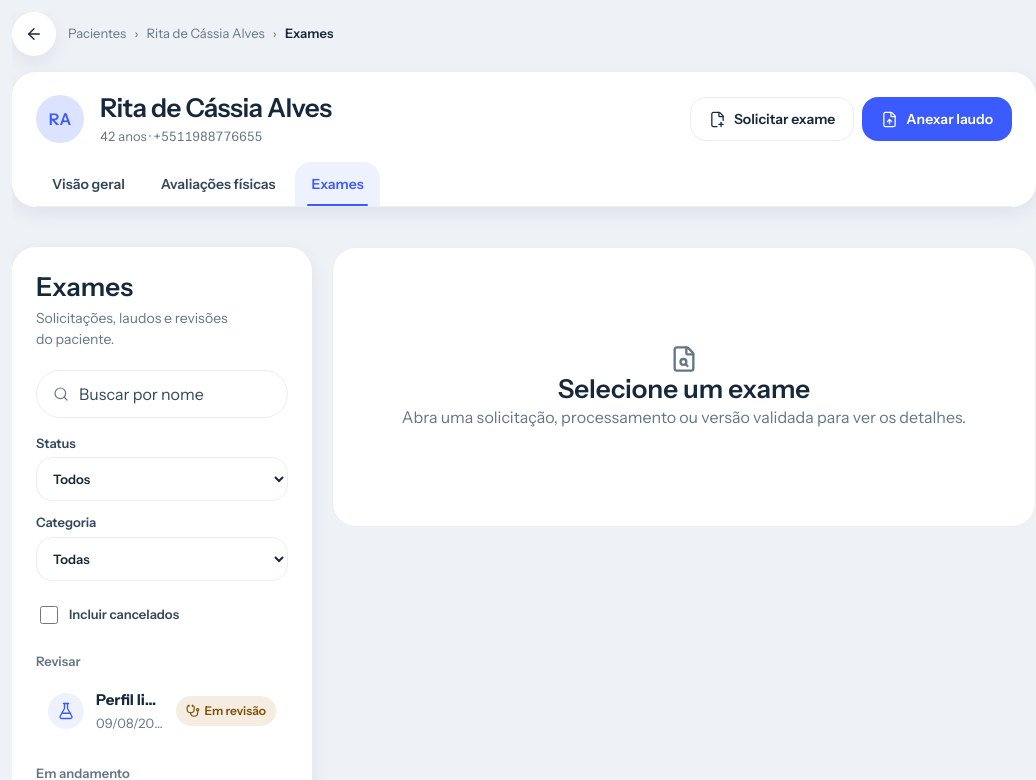
nenhum resultado mantém filtros visíveis e limpar filtros reseta todos
The width and height of the screenshot is (1036, 780).
Expected: the text "Perfil lipídico" is shown, [96,689,164,712]
Type "sem correspondência" into the search field named "Buscar exames" at (174, 394), box [77,372,271,416]
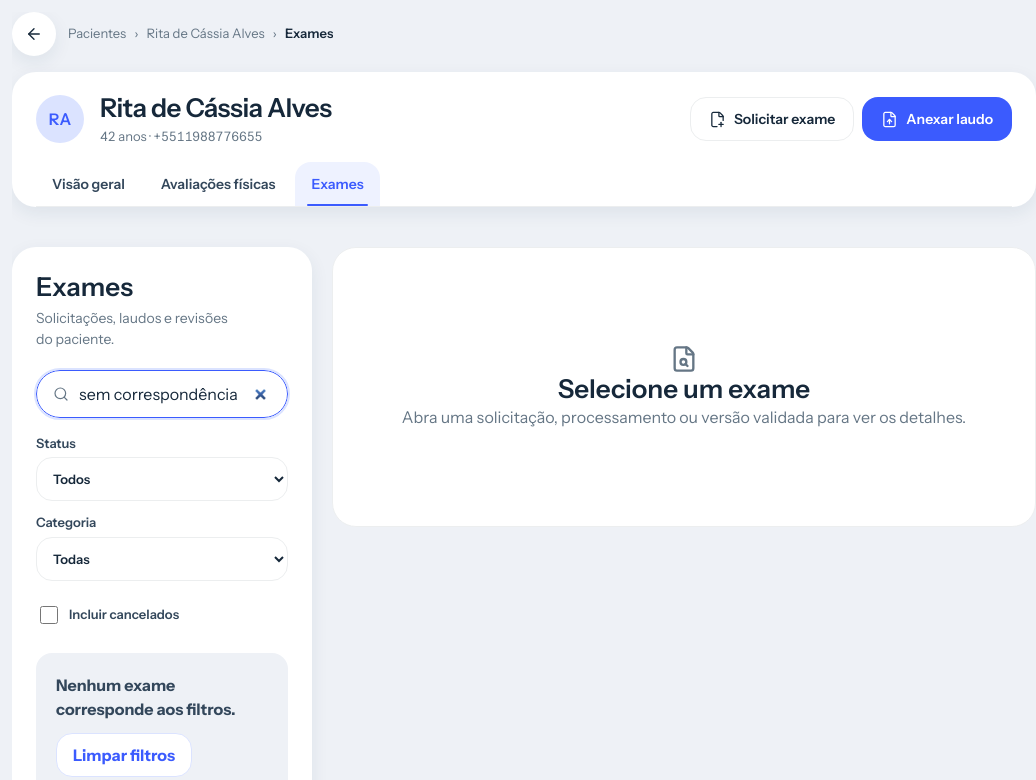
Select "Falhou" in the dropdown labelled "Status" at (162, 479), box [36,457,288,501]
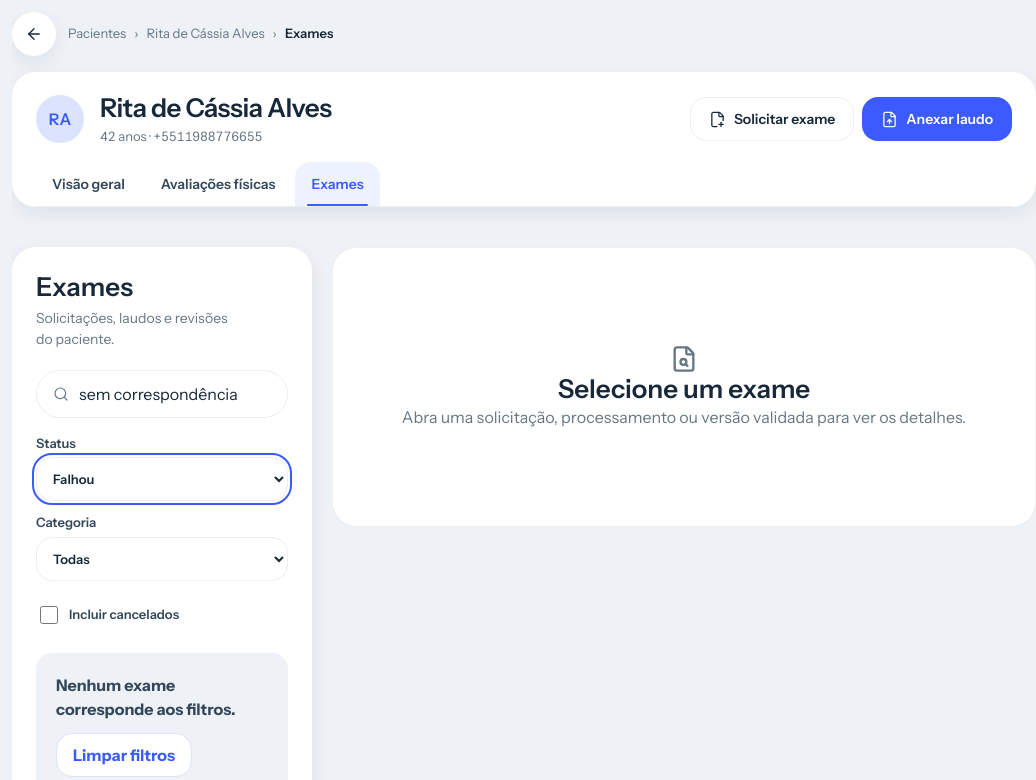
Select "Imagem" in the dropdown labelled "Categoria" at (162, 558), box [36,536,288,580]
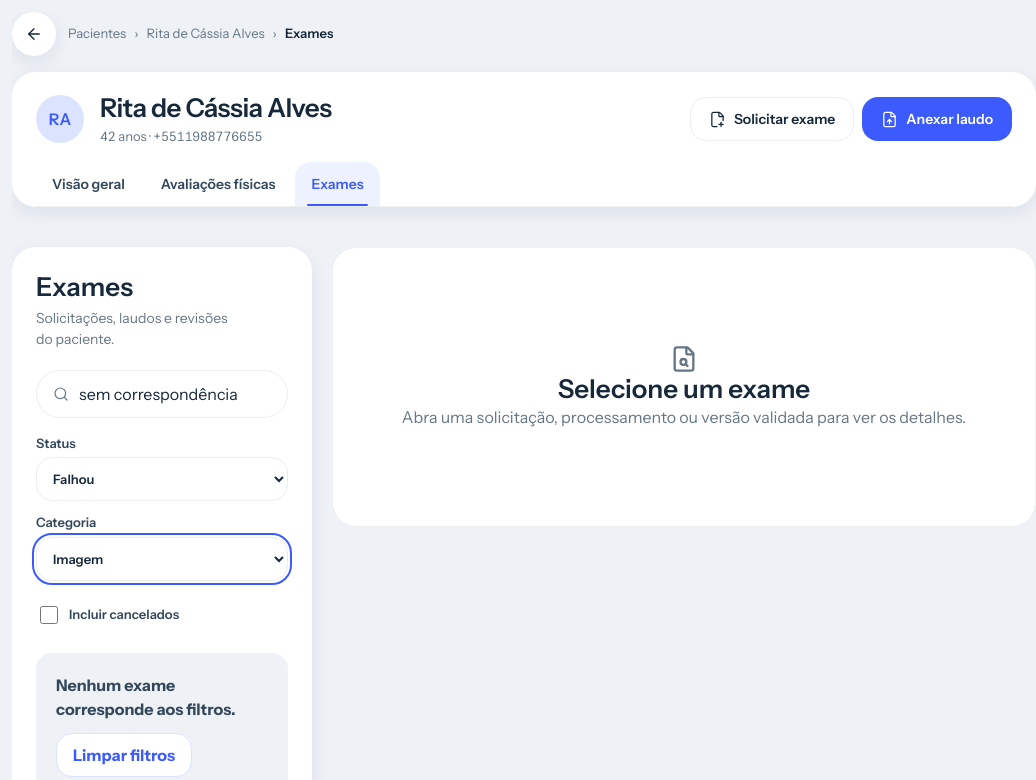
Click the checkbox labelled "Incluir cancelados" at (49, 614), box [40,606,58,624]
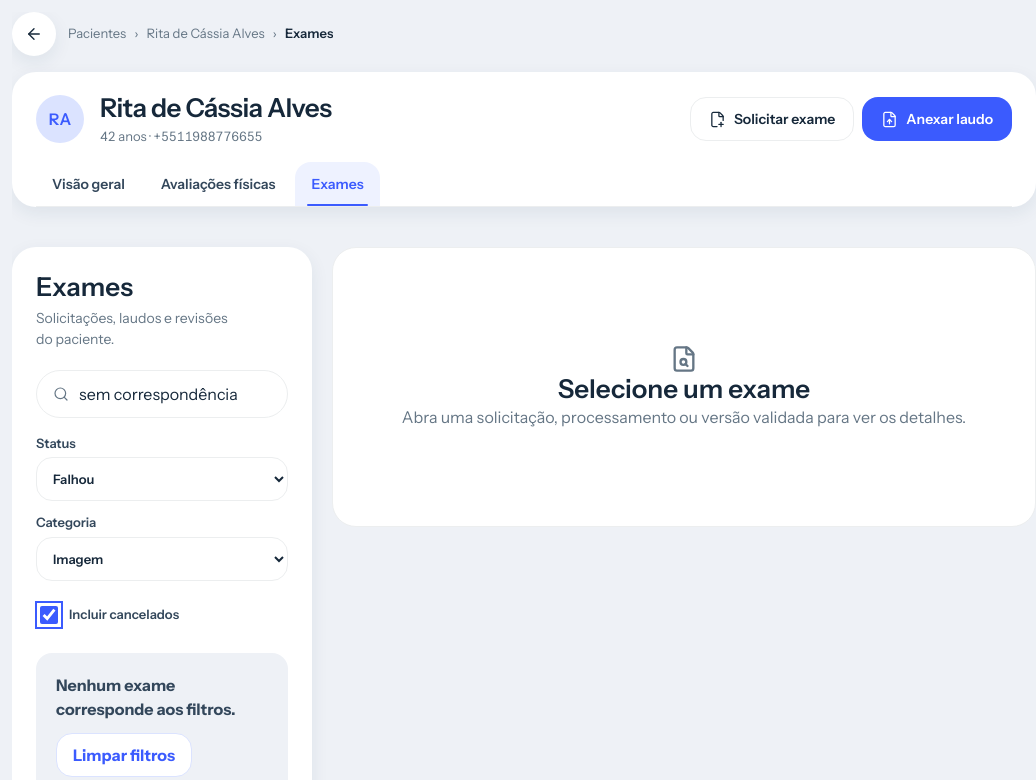
Expected: the checkbox labelled "Incluir cancelados" is checked, [40,606,58,624]
Expected: the text "Nenhum exame corresponde aos filtros." is shown, [56,674,236,718]
Click the button "Limpar filtros" at (124, 754), box [56,732,192,776]
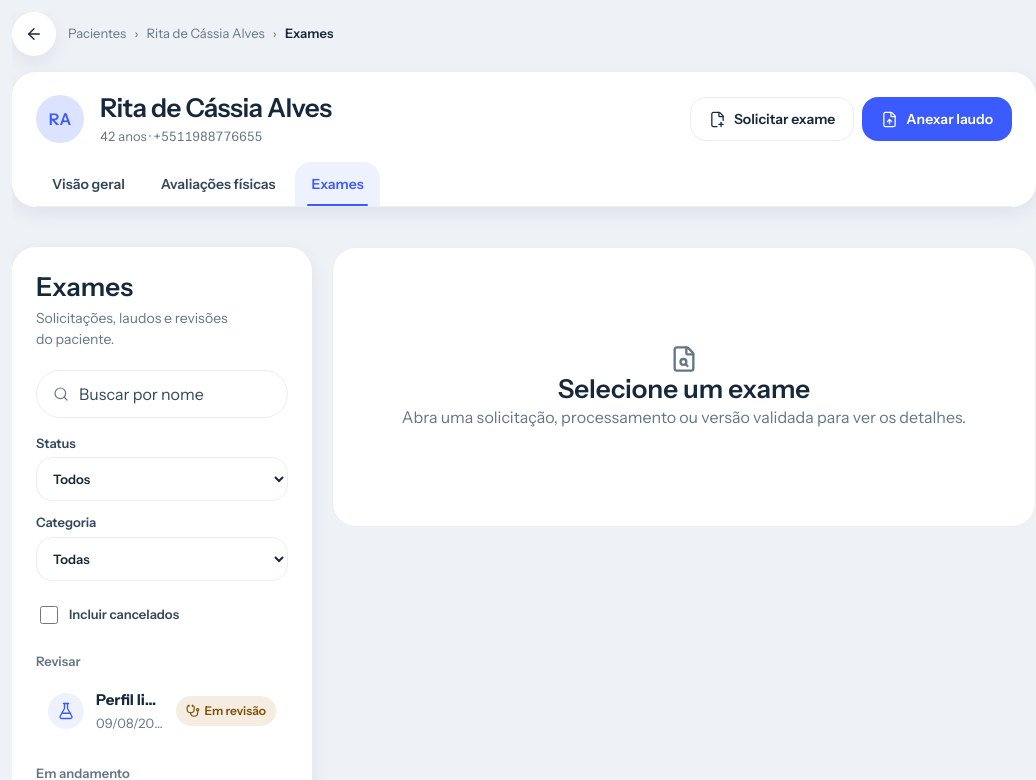
Expected: the checkbox labelled "Incluir cancelados" is not checked, [40,606,58,624]
Expected: the search field named "Buscar exames" is empty, [77,372,271,416]
Expected: the text "Perfil lipídico" is shown, [96,689,164,712]
